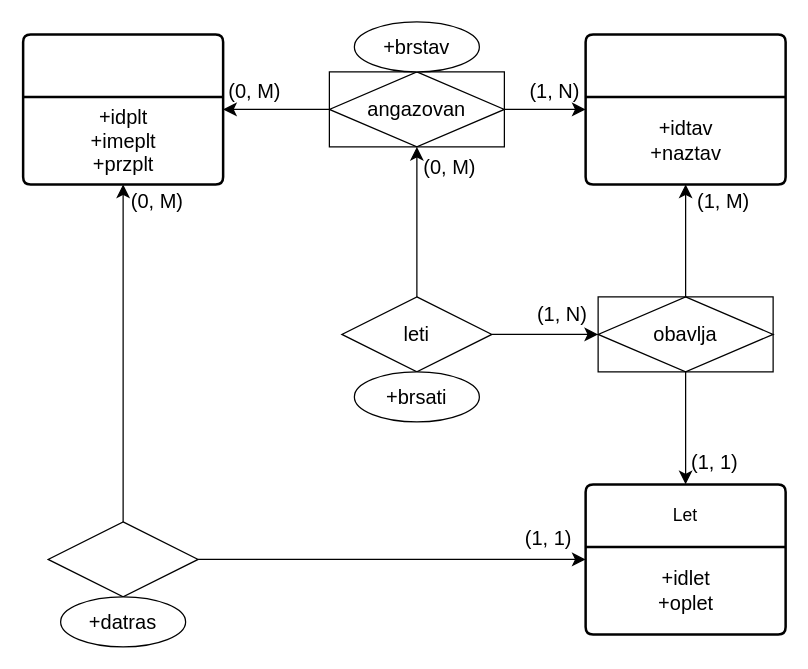
This 808x669 diagram has some shape labels left out. Each missing label, with the box of its shape:
Pilot: (21, 32, 224, 185)
sef: (47, 521, 198, 597)
TipAviona: (584, 32, 786, 185)
